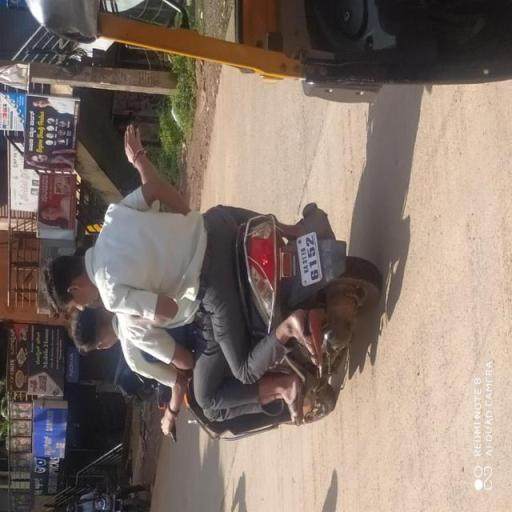tripple riding: (14, 147, 228, 402)
